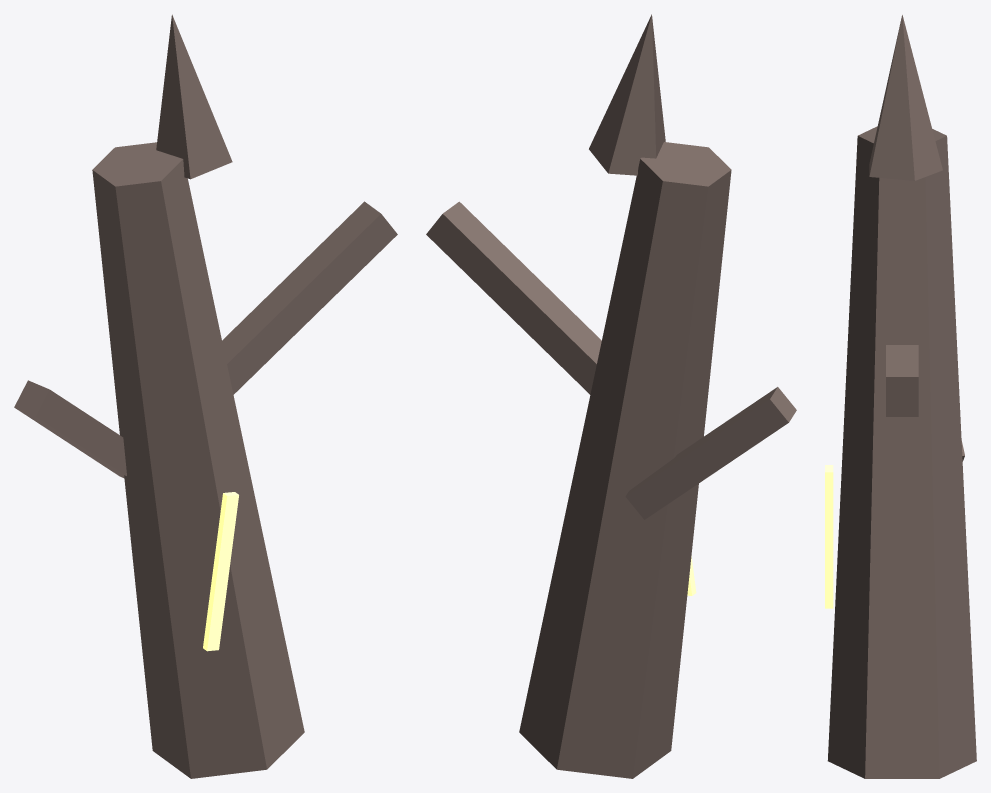
File: ENV_Ember_BurntTree_2.fbx
The picture shows the model from 3 angles, left to right: view 1: azimuth 30°, elevation 25°; view 2: azimuth 150°, elevation 25°; view 3: azimuth 270°, elevation 25°; orthographic projection. The views are drawn at different scales.
Parts seen in each view (by area): view 1: ENV_Ember_BurntTree_2; view 2: ENV_Ember_BurntTree_2; view 3: ENV_Ember_BurntTree_2.
Part boxes in pixels (x1,y1,x2,y2): ENV_Ember_BurntTree_2: (14,14,397,778); ENV_Ember_BurntTree_2: (426,14,796,778); ENV_Ember_BurntTree_2: (825,15,976,778).
Bounding box in the file's own units: 1.51 × 2.97 × 0.56.
